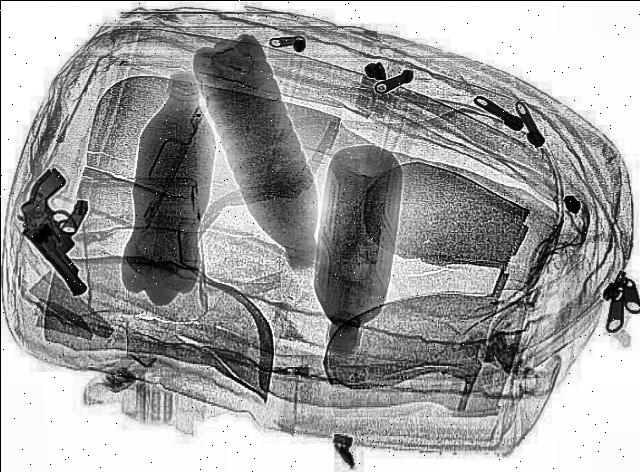Gun: (0, 164, 116, 300)
